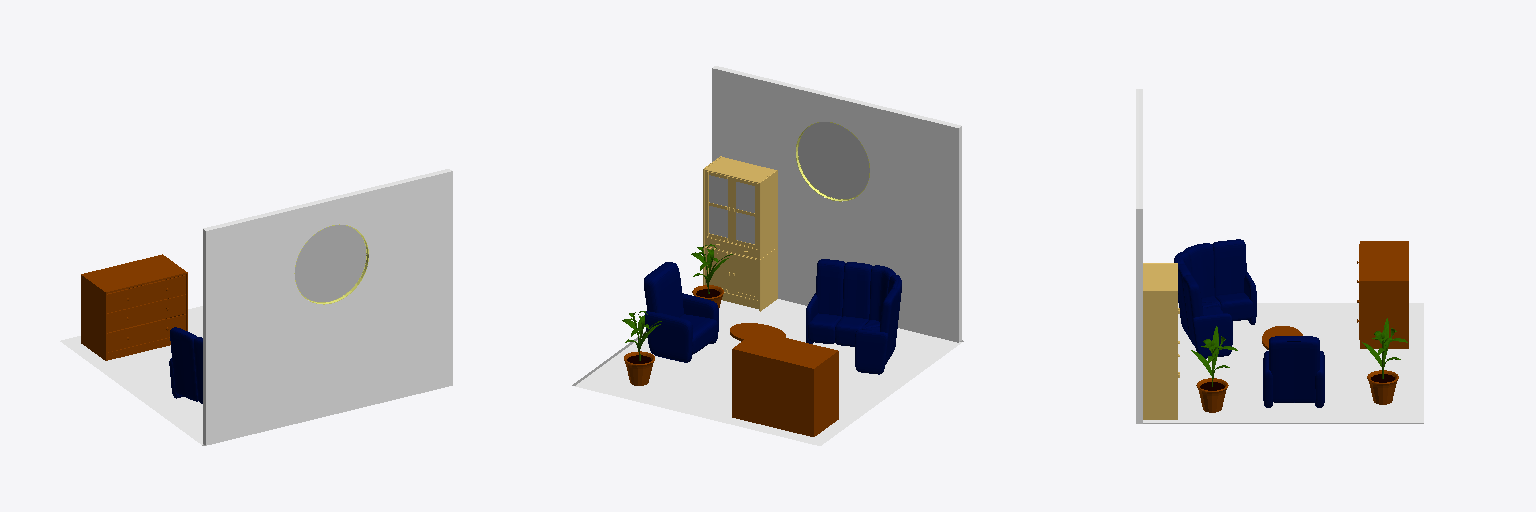
Rendered from SalaDerecha.obj.
The picture shows the model from 3 angles: view 1: azimuth 30°, elevation 25°; view 2: azimuth 150°, elevation 25°; view 3: azimuth 270°, elevation 25°; orthographic projection.
Parts seen in each view (by area): view 1: wall_1_5, room_2_8, Corps_104, sweethome3d_window_pane_10, 77, sweethome3d_opening_on_rail_3_drawer_116, sweethome3d_opening_on_rail_4_drawer_117, sweethome3d_opening_on_rail_1_drawer_108, sweethome3d_opening_on_rail_2_drawer_109; view 2: wall_1_4, room_2_8, Corps_104, sweethome3d_window_pane_10, UpperCabinet_90, 14, 74, 80, Accoudoir_1_12, LowerCabinet_86, Accoudoir_1_78, sweethome3d_opening_on_hinge_4_rightDoor_100 (+10 smaller); view 3: room_2_8, Corps_104, UpperCabinet_90, 14, 77, LowerCabinet_86, Accoudoir_75, 76, wall_1_4, 74, Pot_16_38, Pot_16_67 (+2 smaller).
Boxes of the visible parts, box(x1,y1,x2,y2) form: wall_1_5: box(204, 171, 452, 445); room_2_8: box(60, 306, 202, 444); Corps_104: box(81, 254, 187, 360); sweethome3d_window_pane_10: box(295, 225, 366, 301); 77: box(170, 327, 197, 401); sweethome3d_opening_on_rail_3_drawer_116: box(107, 294, 185, 332); sweethome3d_opening_on_rail_4_drawer_117: box(107, 314, 185, 352); sweethome3d_opening_on_rail_1_drawer_108: box(107, 284, 145, 312); sweethome3d_opening_on_rail_2_drawer_109: box(147, 275, 185, 303); wall_1_4: box(712, 68, 959, 342); room_2_8: box(575, 299, 961, 445); Corps_104: box(732, 331, 838, 436); sweethome3d_window_pane_10: box(798, 122, 869, 198); UpperCabinet_90: box(703, 156, 777, 258); 14: box(644, 262, 717, 353); 74: box(808, 259, 845, 343); 80: box(835, 262, 872, 346); Accoudoir_1_12: box(645, 311, 692, 362); LowerCabinet_86: box(703, 246, 777, 311); Accoudoir_1_78: box(855, 329, 888, 374); sweethome3d_opening_on_hinge_4_rightDoor_100: box(732, 254, 758, 300); room_2_8: box(1143, 303, 1423, 422); Corps_104: box(1360, 241, 1408, 348); UpperCabinet_90: box(1143, 263, 1177, 367); 14: box(1269, 336, 1319, 402); 77: box(1212, 239, 1253, 320); LowerCabinet_86: box(1143, 368, 1177, 419); Accoudoir_75: box(1192, 313, 1232, 358); 76: box(1183, 243, 1220, 307); wall_1_4: box(1139, 209, 1142, 423); 74: box(1183, 275, 1232, 347); Pot_16_38: box(1367, 370, 1398, 404); Pot_16_67: box(1196, 378, 1228, 412).
Size of the model in its own units: 304 by 250 by 305.